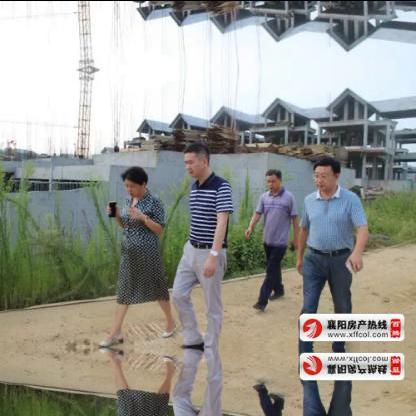No Helmet: (179, 138, 211, 180), (308, 154, 342, 190), (118, 163, 147, 199), (262, 166, 282, 192)
